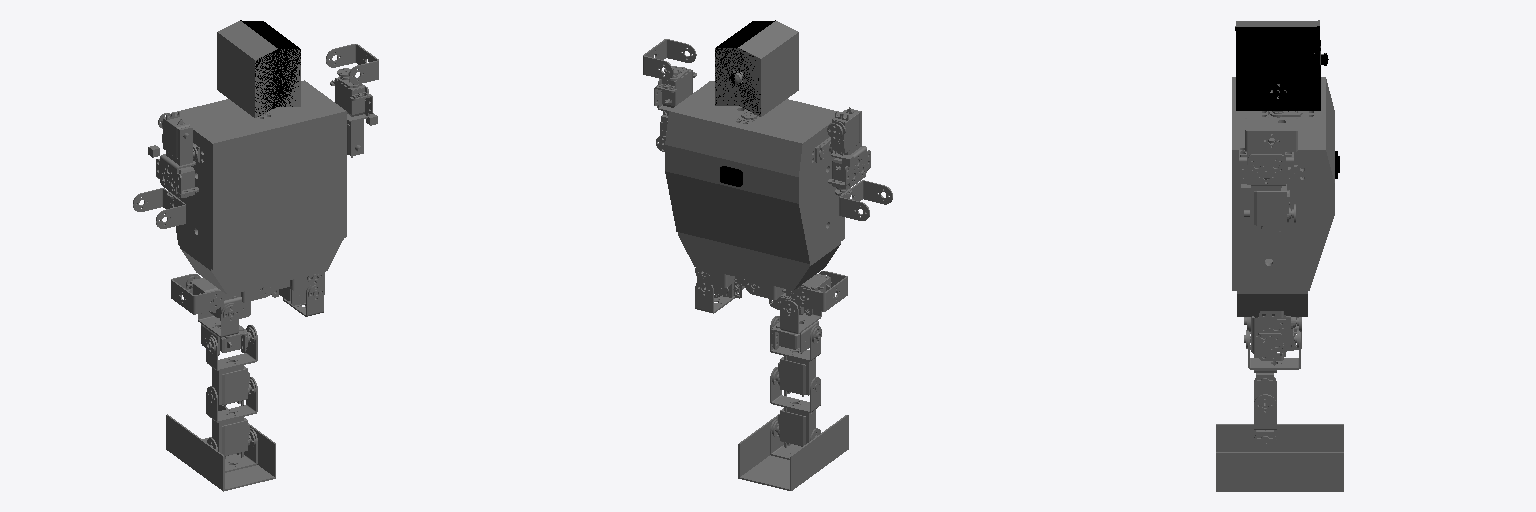
--- Render facts (derived) ---
3 views of the same robot in one strip: view 1: azimuth 30°, elevation 25°; view 2: azimuth 150°, elevation 25°; view 3: azimuth 270°, elevation 25° (orthographic).
Robot: rmis — 47 links, 46 joints (24 revolute, 22 fixed); root link world; default pose: all joints at 0.
Links seen in each view (by area): view 1: base_link, head_outer_link, lower_body_link, l_feet_link, l_upper_shoulder_link, camera_link, r_upper_shoulder_link, l_lower_leg_inner_link, r_lower_shoulder_link, l_upper_ankle_link, l_lower_shoulder_link, r_lower_ankle_link (+6 smaller); view 2: base_link, head_outer_link, l_feet_link, lower_body_link, l_upper_shoulder_link, r_upper_shoulder_link, l_lower_leg_inner_link, r_lower_shoulder_link, l_lower_shoulder_link, l_upper_ankle_link, camera_link, r_lower_ankle_link (+5 smaller); view 3: base_link, l_feet_link, camera_link, r_upper_shoulder_link, r_upper_leg_inner_link, lower_body_link, r_lower_shoulder_link, l_lower_leg_outer_link, r_lower_hip_link, head_outer_link.
Link boxes in pixels (x1,y1,x2,y2): base_link: (174,80,346,269); head_outer_link: (217,21,300,117); lower_body_link: (180,238,343,298); l_feet_link: (166,405,275,491); l_upper_shoulder_link: (156,111,198,198); camera_link: (240,20,300,116); r_upper_shoulder_link: (330,68,372,157); l_lower_leg_inner_link: (209,362,255,406); r_lower_shoulder_link: (326,44,378,84); l_upper_ankle_link: (210,413,255,458); l_lower_shoulder_link: (133,188,185,228); r_lower_ankle_link: (171,274,224,314); base_link: (665,81,844,263); head_outer_link: (715,21,798,116); l_feet_link: (738,414,848,490); lower_body_link: (678,232,840,290); l_upper_shoulder_link: (827,107,870,195); r_upper_shoulder_link: (654,66,696,151); l_lower_leg_inner_link: (772,352,818,396); r_lower_shoulder_link: (643,39,696,79); l_lower_shoulder_link: (839,180,892,220); l_upper_ankle_link: (772,404,816,447); camera_link: (715,20,775,114); r_lower_ankle_link: (794,271,847,311); base_link: (1232,77,1334,290); l_feet_link: (1216,424,1343,491); camera_link: (1235,26,1328,110); r_upper_shoulder_link: (1239,134,1295,231); r_upper_leg_inner_link: (1252,311,1300,360); lower_body_link: (1237,291,1307,317); r_lower_shoulder_link: (1245,118,1297,151); l_lower_leg_outer_link: (1254,377,1276,429); r_lower_hip_link: (1244,330,1300,369); head_outer_link: (1235,20,1325,98).
Size in the robot's own frame: 3.07 by 1.35 by 5.47 metres.
28 mesh visuals loaded from 37 distinct referenced files (27 binary STL); not drawn: 10 (reference not matched to a file when rendering).

The robot description file, URDF, robot "rmis":
<?xml version="1.0"?>
<robot name="rmis" version="1.0">

  <!-- Dummy Link for KDL Parser -->
  <link name="world"/>

  <!-- Fixed Joint to Connect World to Base Link -->
  <joint name="world_to_base_joint" type="fixed">
    <parent link="world"/>
    <child link="base_link"/>
    <origin xyz="0.0 0.0 0.0" rpy="0.0 0.0 0.0"/>
  </joint>

  <!-- Base Link -->
  <link name="base_link">
    <inertial>
      <origin xyz="-0.00284 -0.01176 0.03521" rpy="0.0 0.0 0.0"/>
      <mass value="0.05000"/>
      <inertia ixx="3.80664" ixy="0.00010" ixz="-0.11562" iyy="2.86595" iyz="0.00147" izz="1.72824"/>
    </inertial>
    <visual name="base">
      <origin xyz="-0.15389 0.0 -0.00001" rpy="0.0 0.0 0.0"/>
      <geometry>
        <mesh filename="package://rmis/meshes/stl/base.stl" scale="0.1 0.1 0.1"/>
      </geometry>
      <material name="grey">
        <color rgba="0.5 0.5 0.5 1.0"/>
      </material>
    </visual>
    <collision name="base_collision">
      <origin xyz="-0.15389 0.0 -0.00001" rpy="0.0 0.0 0.0"/>
      <geometry>
        <mesh filename="package://rmis/meshes/stl/base.stl" scale="0.1 0.1 0.1"/>
      </geometry>
    </collision>
  </link>
  <gazebo reference="base_link">
    <material>Gazebo/Grey</material>
  </gazebo>

  <!-- Sensors Section -->
  <!-- Lidar -->
  <joint name="lidar_link_joint" type="fixed">
    <origin xyz="0.15210 0.54325 0.16884" rpy="0.0 0.0 0.0"/>
    <parent link="base_link"/>
    <child link="lidar_link"/>
  </joint>
  <link name="lidar_link">
    <inertial>
      <origin xyz="-1.54987 0.01466 -0.04121" rpy="0.0 0.0 0.0"/>
      <mass value="0.05000"/>
      <inertia ixx="0.05768" ixy="0.00012" ixz="-0.00062" iyy="0.02857" iyz="0.00006" izz="0.05022"/>
    </inertial>
    <visual name="lidar">
      <origin xyz="-0.15388 0.0 -0.00000" rpy="0.0 0.0 0.0"/>
      <geometry>
        <mesh filename="package://rmis/meshes/stl/TF_Luna.stl" scale="0.1 0.1 0.1"/>
      </geometry>
      <material name="black">
        <color rgba="0.0 0.0 0.0 1.0"/>
      </material>
    </visual>
    <collision name="lidar_collision">
      <origin xyz="-0.15388 0.0 -0.00001" rpy="0.0 0.0 0.0"/>
      <geometry>
        <mesh filename="package://rmis/meshes/stl/TF_Luna.stl" scale="0.1 0.1 0.1"/>
      </geometry>
    </collision>
  </link>
  <gazebo reference="lidar_link">
    <material>Gazebo/Black</material>
    <sensor name="tf_luna" type="ray">
      <pose>0.0 0.0 0.0 0.0 0.0 0.0</pose>
      <visualize>true</visualize>
      <update_rate>10</update_rate>
      <ray>
        <scan>
          <horizontal>
            <samples>100</samples>
            <resolution>0.01047</resolution>
            <min_angle>-0.52360</min_angle>
            <max_angle>0.52360</max_angle>
          </horizontal>
        </scan>
        <range>
          <min>0.2</min>
          <max>8.0</max>
          <resolution>0.01</resolution>
        </range>
      </ray>
      <plugin name="lidar_plugin" filename="libgazebo_ros_ray_sensor.so">
        <ros>
          <namespace>/rmis</namespace>
          <remapping>~/out:=lidar_scan</remapping>
        </ros>
        <frame_name>lidar_link</frame_name>
      </plugin>
    </sensor>
  </gazebo>

  <!-- IMU -->
  <joint name="imu_link_joint" type="fixed">
    <origin xyz="0.21039 -0.34355 -1.01118" rpy="0.0 0.0 1.57080"/>
    <parent link="base_link"/>
    <child link="imu_link"/>
  </joint>
  <link name="imu_link">
    <inertial>
      <origin xyz="0.0 2.30103 0.0" rpy="0.0 0.0 0.0"/>
      <mass value="0.05000"/>
      <inertia ixx="0.03333" ixy="0.0" ixz="0.0" iyy="0.01817" iyz="0.0" izz="0.01817"/>
    </inertial>
    <visual name="imu">
      <origin xyz="0.0 0.23010 0.0" rpy="0.0 0.0 0.0"/>
      <geometry>
        <box size="0.06 0.2 0.2"/>
      </geometry>
      <material name="blue">
        <color rgba="0.0 0.0 1.0 1.0"/>
      </material>
    </visual>
    <collision name="imu_collision">
      <origin xyz="0.0 0.23010 0.0" rpy="0.0 0.0 0.0"/>
      <geometry>
        <box size="0.06 0.2 0.2"/>
      </geometry>
    </collision>
  </link>
  <gazebo reference="imu_link">
    <material>Gazebo/Blue</material>
  </gazebo>

  <!-- Upper Body Section -->
  <joint name="u_upper_body_link_joint" type="revolute">
    <origin xyz="-0.00039 -0.01857 0.85581" rpy="0.0 0.0 0.0"/>
    <parent link="base_link"/>
    <child link="u_upper_body_link"/>
    <axis xyz="0.0 0.0 1.0"/>
    <dynamics damping="0.50000" friction="0.1"/>
    <limit lower="-3.14" upper="3.14" effort="1.2" velocity="1.0"/>
  </joint>
  <link name="u_upper_body_link">
    <inertial>
      <origin xyz="0.0 0.0 0.0" rpy="0.0 0.0 0.0"/>
      <mass value="0.01"/>
      <inertia ixx="0.001" ixy="0.0" ixz="0.0" iyy="0.001" iyz="0.0" izz="0.001"/>
    </inertial>
    <visual name="u_upper_body">
      <origin xyz="0.0 0.0 0.0" rpy="0.0 0.0 0.0"/>
      <geometry>
        <box size="0.1 0.1 0.1"/>
      </geometry>
      <material name="grey"/>
    </visual>
    <collision name="u_upper_body_collision">
      <origin xyz="0.0 0.0 0.0" rpy="0.0 0.0 0.0"/>
      <geometry>
        <box size="0.1 0.1 0.1"/>
      </geometry>
    </collision>
  </link>
  <gazebo reference="u_upper_body_link">
    <material>Gazebo/Grey</material>
  </gazebo>

  <!-- Head and Neck Section -->
  <joint name="neck_link_joint" type="fixed">
    <origin xyz="0.29394 -0.10231 0.17455" rpy="0.0 0.0 0.0"/>
    <parent link="u_upper_body_link"/>
    <child link="neck_link"/>
  </joint>
  <link name="neck_link">
    <inertial>
      <origin xyz="-2.94095 0.0 -0.40906" rpy="0.0 0.0 0.0"/>
      <mass value="0.05000"/>
      <inertia ixx="0.10411" ixy="0.0" ixz="0.02435" iyy="0.11152" iyz="0.0" izz="0.04042"/>
    </inertial>
    <visual name="neck">
      <origin xyz="-0.29410 0.0 -0.04091" rpy="0.0 0.0 0.0"/>
      <geometry>
        <mesh filename="package://rmis/meshes/stl/neck_joint.stl" scale="0.1 0.1 0.1"/>
      </geometry>
      <material name="grey"/>
    </visual>
    <collision name="neck_collision">
      <origin xyz="-0.29410 0.0 -0.04091" rpy="0.0 0.0 0.0"/>
      <geometry>
        <mesh filename="package://rmis/meshes/stl/neck_joint.stl" scale="0.1 0.1 0.1"/>
      </geometry>
    </collision>
  </link>
  <gazebo reference="neck_link">
    <material>Gazebo/Grey</material>
  </gazebo>

  <joint name="head_inner_link_joint" type="revolute">
    <origin xyz="-0.53928 0.10308 0.14213" rpy="-1.57080 -1.57080 1.57080"/>
    <parent link="neck_link"/>
    <child link="head_inner_link"/>
    <axis xyz="0.0 0.0 1.0"/>
    <dynamics damping="0.50000" friction="0.1"/>
    <limit lower="-0.4" upper="0.4" effort="1.2" velocity="1.0"/>
  </joint>
  <link name="head_inner_link">
    <inertial>
      <origin xyz="0.86758 -0.32559 -2.66080" rpy="0.0 0.0 0.0"/>
      <mass value="0.05000"/>
      <inertia ixx="0.18266" ixy="0.01279" ixz="0.00147" iyy="0.09287" iyz="0.00504" izz="0.14329"/>
    </inertial>
    <visual name="head_inner">
      <origin xyz="0.10230 0.02942 -0.18450" rpy="1.57080 1.57080 1.57080"/>
      <geometry>
        <mesh filename="package://rmis/meshes/stl/head_link.stl" scale="0.1 0.1 0.1"/>
      </geometry>
      <material name="grey"/>
    </visual>
    <collision name="head_inner_collision">
      <origin xyz="0.10230 0.02942 -0.18450" rpy="1.57080 1.57080 1.57080"/>
      <geometry>
        <mesh filename="package://rmis/meshes/stl/head_link.stl" scale="0.1 0.1 0.1"/>
      </geometry>
    </collision>
  </link>
  <gazebo reference="head_inner_link">
    <material>Gazebo/Grey</material>
  </gazebo>

  <joint name="head_outer_link_joint" type="fixed">
    <origin xyz="0.24166 -0.01105 -0.24237" rpy="1.57080 1.57080 1.57080"/>
    <parent link="head_inner_link"/>
    <child link="head_outer_link"/>
  </joint>
  <link name="head_outer_link">
    <inertial>
      <origin xyz="0.0 0.0 0.0" rpy="0.0 0.0 0.0"/>
      <mass value="0.01"/>
      <inertia ixx="0.001" ixy="0.0" ixz="0.0" iyy="0.001" iyz="0.0" izz="0.001"/>
    </inertial>
    <visual name="head_outer">
      <origin xyz="0.0 0.0 0.0" rpy="0.0 0.0 0.0"/>
      <geometry>
        <mesh filename="package://rmis/meshes/stl/head_joint.stl" scale="0.1 0.1 0.1"/>
      </geometry>
      <material name="grey"/>
    </visual>
    <collision name="head_outer_collision">
      <origin xyz="0.0 0.0 0.0" rpy="0.0 0.0 0.0"/>
      <geometry>
        <mesh filename="package://rmis/meshes/stl/head_joint.stl" scale="0.1 0.1 0.1"/>
      </geometry>
    </collision>
  </link>
  <gazebo reference="head_outer_link">
    <material>Gazebo/Grey</material>
  </gazebo>

  <joint name="camera_link_joint" type="fixed">
    <origin xyz="-0.00027 0.51877 -0.01898" rpy="0.0 0.0 1.57080"/>
    <parent link="head_outer_link"/>
    <child link="camera_link"/>
  </joint>
  <link name="camera_link">
    <inertial>
      <origin xyz="-5.04919 -0.00283 0.18436" rpy="0.0 0.0 0.0"/>
      <mass value="0.05000"/>
      <inertia ixx="0.35611" ixy="0.08645" ixz="0.03018" iyy="1.36268" iyz="-0.00299" izz="1.33173"/>
    </inertial>
    <visual name="camera">
      <origin xyz="-0.51877 -0.00027 0.01898" rpy="0.0 0.0 -1.57080"/>
      <geometry>
        <mesh filename="package://rmis/meshes/stl/head_joint.stl" scale="0.1 0.1 0.1"/>
      </geometry>
      <material name="black"/>
    </visual>
    <collision name="camera_collision">
      <origin xyz="-0.51877 -0.00027 0.01898" rpy="0.0 0.0 -1.57080"/>
      <geometry>
        <mesh filename="package://rmis/meshes/stl/head_joint.stl" scale="0.1 0.1 0.1"/>
      </geometry>
    </collision>
  </link>
  <gazebo reference="camera_link">
    <material>Gazebo/Black</material>
    <sensor name="rasp_cam" type="camera">
      <pose>0.02942 0.0 0.0 -0.0 1.57080 0.0</pose>
      <camera>
        <horizontal_fov>1.57080</horizontal_fov>
        <image>
          <width>3280</width>
          <height>2464</height>
          <format>R8G8B8</format>
        </image>
        <clip>
          <near>0.01</near>
          <far>100.0</far>
        </clip>
      </camera>
      <update_rate>30</update_rate>
      <visualize>true</visualize>
      <plugin name="camera_plugin" filename="libgazebo_ros_camera.so">
        <ros>
          <namespace>/rmis</namespace>
          <remapping>~/out:=camera/image_raw</remapping>
        </ros>
        <frame_name>camera_link</frame_name>
      </plugin>
    </sensor>
  </gazebo>

  <!-- Lower Body Section -->
  <joint name="lower_body_link_joint" type="fixed">
    <origin xyz="-0.04942 -0.07242 -1.16532" rpy="0.0 0.0 0.0"/>
    <parent link="base_link"/>
    <child link="lower_body_link"/>
  </joint>
  <link name="lower_body_link">
    <inertial>
      <origin xyz="0.45951 -0.12902 0.92811" rpy="0.0 0.0 0.0"/>
      <mass value="0.05000"/>
      <inertia ixx="1.03498" ixy="-0.00427" ixz="-0.00418" iyy="0.30934" iyz="-0.00367" izz="1.06913"/>
    </inertial>
    <visual name="lower_body">
      <origin xyz="-0.07498 0.0 0.12347" rpy="0.0 0.0 0.0"/>
      <geometry>
        <mesh filename="package://rmis/meshes/stl/lower_body_link.stl" scale="0.1 0.1 0.1"/>
      </geometry>
      <material name="grey"/>
    </visual>
    <collision name="lower_body_collision">
      <origin xyz="-0.07498 0.0 0.12347" rpy="0.0 0.0 0.0"/>
      <geometry>
        <mesh filename="package://rmis/meshes/stl/lower_body_link.stl" scale="0.1 0.1 0.1"/>
      </geometry>
    </collision>
  </link>
  <gazebo reference="lower_body_link">
    <material>Gazebo/Grey</material>
  </gazebo>

  <!-- Left Upper Body -->
  <joint name="l_upper_body_link_joint" type="revolute">
    <origin xyz="-1.02542 -0.10845 0.50152" rpy="0.0 -1.57080 0.0"/>
    <parent link="base_link"/>
    <child link="l_upper_body_link"/>
    <axis xyz="0.0 0.0 1.0"/>
    <dynamics damping="0.50000" friction="0.1"/>
    <limit lower="-2.0" upper="2.0" effort="1.2" velocity="1.0"/>
  </joint>
  <link name="l_upper_body_link">
    <inertial>
      <origin xyz="0.0 0.0 0.0" rpy="0.0 0.0 0.0"/>
      <mass value="0.01"/>
      <inertia ixx="0.001" ixy="0.0" ixz="0.0" iyy="0.001" iyz="0.0" izz="0.001"/>
    </inertial>
    <visual name="l_upper_body">
      <origin xyz="0.0 0.0 0.0" rpy="0.0 0.0 0.0"/>
      <geometry>
        <box size="0.1 0.1 0.1"/>
      </geometry>
      <material name="grey"/>
    </visual>
    <collision name="l_upper_body_collision">
      <origin xyz="0.0 0.0 0.0" rpy="0.0 0.0 0.0"/>
      <geometry>
        <box size="0.1 0.1 0.1"/>
      </geometry>
    </collision>
  </link>
  <gazebo reference="l_upper_body_link">
    <material>Gazebo/Grey</material>
  </gazebo>

  <!-- Right Upper Body -->
  <joint name="r_upper_body_link_joint" type="revolute">
    <origin xyz="1.02542 -0.10845 0.50152" rpy="0.0 1.57080 0.0"/>
    <parent link="base_link"/>
    <child link="r_upper_body_link"/>
    <axis xyz="0.0 0.0 1.0"/>
    <dynamics damping="0.50000" friction="0.1"/>
    <limit lower="-2.0" upper="2.0" effort="1.2" velocity="1.0"/>
  </joint>
  <link name="r_upper_body_link">
    <inertial>
      <origin xyz="0.0 0.0 0.0" rpy="0.0 0.0 0.0"/>
      <mass value="0.01"/>
      <inertia ixx="0.001" ixy="0.0" ixz="0.0" iyy="0.001" iyz="0.0" izz="0.001"/>
    </inertial>
    <visual name="r_upper_body">
      <origin xyz="0.0 0.0 0.0" rpy="0.0 0.0 0.0"/>
      <geometry>
        <box size="0.1 0.1 0.1"/>
      </geometry>
      <material name="grey"/>
    </visual>
    <collision name="r_upper_body_collision">
      <origin xyz="0.0 0.0 0.0" rpy="0.0 0.0 0.0"/>
      <geometry>
        <box size="0.1 0.1 0.1"/>
      </geometry>
    </collision>
  </link>
  <gazebo reference="r_upper_body_link">
    <material>Gazebo/Grey</material>
  </gazebo>

  <!-- Left Lower Body -->
  <joint name="l_lower_body_link_joint" type="revolute">
    <origin xyz="-0.43474 -0.11124 -0.22114" rpy="3.14159 0.0 3.14159"/>
    <parent link="lower_body_link"/>
    <child link="l_lower_body_link"/>
    <axis xyz="0.0 0.0 1.0"/>
    <dynamics damping="0.50000" friction="0.1"/>
    <limit lower="-0.3" upper="0.3" effort="1.2" velocity="1.0"/>
  </joint>
  <link name="l_lower_body_link">
    <inertial>
      <origin xyz="0.0 0.0 0.0" rpy="0.0 0.0 0.0"/>
      <mass value="0.01"/>
      <inertia ixx="0.001" ixy="0.0" ixz="0.0" iyy="0.001" iyz="0.0" izz="0.001"/>
    </inertial>
    <visual name="l_lower_body">
      <origin xyz="0.0 0.0 0.0" rpy="0.0 0.0 0.0"/>
      <geometry>
        <box size="0.1 0.1 0.1"/>
      </geometry>
      <material name="grey"/>
    </visual>
    <collision name="l_lower_body_collision">
      <origin xyz="0.0 0.0 0.0" rpy="0.0 0.0 0.0"/>
      <geometry>
        <box size="0.1 0.1 0.1"/>
      </geometry>
    </collision>
  </link>
  <gazebo reference="l_lower_body_link">
    <material>Gazebo/Grey</material>
  </gazebo>

  <!-- Right Lower Body -->
  <joint name="r_lower_body_link_joint" type="revolute">
    <origin xyz="0.53339 -0.11124 -0.22114" rpy="3.14159 0.0 3.14159"/>
    <parent link="lower_body_link"/>
    <child link="r_lower_body_link"/>
    <axis xyz="0.0 0.0 1.0"/>
    <dynamics damping="0.50000" friction="0.1"/>
    <limit lower="-0.3" upper="0.3" effort="1.2" velocity="1.0"/>
  </joint>
  <link name="r_lower_body_link">
    <inertial>
      <origin xyz="0.0 0.0 0.0" rpy="0.0 0.0 0.0"/>
      <mass value="0.01"/>
      <inertia ixx="0.001" ixy="0.0" ixz="0.0" iyy="0.001" iyz="0.0" izz="0.001"/>
    </inertial>
    <visual name="r_lower_body">
      <origin xyz="0.0 0.0 0.0" rpy="0.0 0.0 0.0"/>
      <geometry>
        <box size="0.1 0.1 0.1"/>
      </geometry>
      <material name="grey"/>
    </visual>
    <collision name="r_lower_body_collision">
      <origin xyz="0.0 0.0 0.0" rpy="0.0 0.0 0.0"/>
      <geometry>
        <box size="0.1 0.1 0.1"/>
      </geometry>
    </collision>
  </link>
  <gazebo reference="r_lower_body_link">
    <material>Gazebo/Grey</material>
  </gazebo>

  <!-- Left Hip Section -->
  <joint name="l_upper_hip_link_joint" type="fixed">
    <origin xyz="-0.08125 0.19501 0.16258" rpy="-3.14159 0.0 3.14159"/>
    <parent link="l_lower_body_link"/>
    <child link="l_upper_hip_link"/>
  </joint>
  <link name="l_upper_hip_link">
    <inertial>
      <origin xyz="-0.89692 -0.81581 0.04150" rpy="0.0 0.0 0.0"/>
      <mass value="0.05000"/>
      <inertia ixx="0.09287" ixy="-0.00504" ixz="-0.01279" iyy="0.14329" iyz="0.00147" izz="0.18266"/>
    </inertial>
    <visual name="l_upper_hip">
      <origin xyz="-0.07415 0.0 -0.05783" rpy="0.0 0.0 0.0"/>
      <geometry>
        <mesh filename="package://rmis/meshes/stl/l_hip_link.stl" scale="0.1 0.1 0.1"/>
      </geometry>
      <material name="grey"/>
    </visual>
    <collision name="l_upper_hip_collision">
      <origin xyz="-0.07415 0.0 -0.05783" rpy="0.0 0.0 0.0"/>
      <geometry>
        <mesh filename="package://rmis/meshes/stl/l_hip_link.stl" scale="0.1 0.1 0.1"/>
      </geometry>
    </collision>
  </link>
  <gazebo reference="l_upper_hip_link">
    <material>Gazebo/Grey</material>
  </gazebo>

  <joint name="l_lower_hip_link_joint" type="revolute">
    <origin xyz="-0.17610 0.18793 -0.02809" rpy="-1.57080 0.0 0.0"/>
    <parent link="l_upper_hip_link"/>
    <child link="l_lower_hip_link"/>
    <axis xyz="0.0 0.0 1.0"/>
    <dynamics damping="0.50000" friction="0.1"/>
    <limit lower="0.0" upper="0.65" effort="1.2" velocity="1.0"/>
  </joint>
  <link name="l_lower_hip_link">
    <inertial>
      <origin xyz="0.01024 2.04998 -2.16272" rpy="0.0 0.0 0.0"/>
      <mass value="0.05000"/>
      <inertia ixx="0.09091" ixy="0.00004" ixz="0.03172" iyy="0.28233" iyz="-0.00003" izz="0.22135"/>
    </inertial>
    <visual name="l_lower_hip">
      <origin xyz="0.00102 0.20500 -0.21627" rpy="1.57080 0.0 0.0"/>
      <geometry>
        <mesh filename="package://rmis/meshes/stl/l_hip_joint.stl" scale="0.1 0.1 0.1"/>
      </geometry>
      <material name="grey"/>
    </visual>
    <collision name="l_lower_hip_collision">
      <origin xyz="0.00102 0.20500 -0.21627" rpy="1.57080 0.0 0.0"/>
      <geometry>
        <mesh filename="package://rmis/meshes/stl/l_hip_joint.stl" scale="0.1 0.1 0.1"/>
      </geometry>
    </collision>
  </link>
  <gazebo reference="l_lower_hip_link">
    <material>Gazebo/Grey</material>
  </gazebo>

  <!-- Right Hip Section -->
  <joint name="r_upper_hip_link_joint" type="fixed">
    <origin xyz="0.00270 0.13586 0.14958" rpy="3.14159 0.0 3.14159"/>
    <parent link="r_lower_body_link"/>
    <child link="r_upper_hip_link"/>
  </joint>
  <link name="r_upper_hip_link">
    <inertial>
      <origin xyz="0.0 0.0 -0.02804" rpy="0.0 0.0 0.0"/>
      <mass value="0.01"/>
      <inertia ixx="0.001" ixy="0.0" ixz="0.0" iyy="0.001" iyz="0.0" izz="0.001"/>
    </inertial>
    <visual name="r_upper_hip">
      <origin xyz="0.0 0.0 -0.02805" rpy="0.0 0.0 0.0"/>
      <geometry>
        <mesh filename="package://rmis/meshes/stl/r_hip_link.stl" scale="0.1 0.1 0.1"/>
      </geometry>
      <material name="grey"/>
    </visual>
    <collision name="r_upper_hip_collision">
      <origin xyz="0.0 0.0 -0.02804" rpy="0.0 0.0 0.0"/>
      <geometry>
        <mesh filename="package://rmis/meshes/stl/r_hip_link.stl" scale="0.1 0.1 0.1"/>
      </geometry>
    </collision>
  </link>
  <gazebo reference="r_upper_hip_link">
    <material>Gazebo/Grey</material>
  </gazebo>

  <joint name="r_lower_hip_link_joint" type="revolute">
    <origin xyz="0.09774 0.24708 -0.04110" rpy="-1.57080 0.0 0.0"/>
    <parent link="r_upper_hip_link"/>
    <child link="r_lower_hip_link"/>
    <axis xyz="0.0 0.0 1.0"/>
    <dynamics damping="0.50000" friction="0.1"/>
    <limit lower="0.0" upper="0.65" effort="1.2" velocity="1.0"/>
  </joint>
  <link name="r_lower_hip_link">
    <inertial>
      <origin xyz="-0.00490 1.62450 -2.85692" rpy="0.0 0.0 0.0"/>
      <mass value="0.05000"/>
      <inertia ixx="0.09070" ixy="-0.00001" ixz="0.03156" iyy="0.28217" iyz="0.0" izz="0.22140"/>
    </inertial>
    <visual name="r_lower_hip">
      <origin xyz="-0.00049 0.16245 -0.28569" rpy="1.57080 0.0 0.0"/>
      <geometry>
        <mesh filename="package://rmis/meshes/stl/r_hip_joint.stl" scale="0.1 0.1 0.1"/>
      </geometry>
      <material name="grey"/>
    </visual>
    <collision name="r_lower_hip_collision">
      <origin xyz="-0.00049 0.16245 -0.28569" rpy="1.57080 0.0 0.0"/>
      <geometry>
        <mesh filename="package://rmis/meshes/stl/r_hip_joint.stl" scale="0.1 0.1 0.1"/>
      </geometry>
    </collision>
  </link>
  <gazebo reference="r_lower_hip_link">
    <material>Gazebo/Grey</material>
  </gazebo>

  <!-- Left Leg Section -->
  <joint name="l_upper_leg_inner_link_joint" type="fixed">
    <origin xyz="0.23325 0.42698 -0.25846" rpy="1.57080 0.0 0.0"/>
    <parent link="l_lower_hip_link"/>
    <child link="l_upper_leg_inner_link"/>
  </joint>
  <link name="l_upper_leg_inner_link">
    <inertial>
      <origin xyz="-1.15800 -0.07651 0.08443" rpy="0.0 0.0 0.0"/>
      <mass value="0.05000"/>
      <inertia ixx="0.14374" ixy="-0.00539" ixz="-0.00179" iyy="0.09294" iyz="0.01231" izz="0.18306"/>
    </inertial>
    <visual name="l_upper_leg_inner">
      <origin xyz="-0.09287 0.0 -0.01054" rpy="0.0 0.0 0.0"/>
      <geometry>
        <mesh filename="package://rmis/meshes/stl/l_upper_leg_link.stl" scale="0.1 0.1 0.1"/>
      </geometry>
      <material name="grey"/>
    </visual>
    <collision name="l_upper_leg_inner_collision">
      <origin xyz="-0.09287 0.0 -0.01054" rpy="0.0 0.0 0.0"/>
      <geometry>
        <mesh filename="package://rmis/meshes/stl/l_upper_leg_link.stl" scale="0.1 0.1 0.1"/>
      </geometry>
    </collision>
  </link>
  <gazebo reference="l_upper_leg_inner_link">
    <material>Gazebo/Grey</material>
  </gazebo>

  <joint name="l_upper_leg_outer_link_joint" type="revolute">
    <origin xyz="0.14920 -0.09581 -0.02392" rpy="0.0 1.57080 0.0"/>
    <parent link="l_upper_leg_inner_link"/>
    <child link="l_upper_leg_outer_link"/>
    <axis xyz="0.0 0.0 1.0"/>
    <dynamics damping="0.50000" friction="0.1"/>
    <limit lower="-1.57" upper="1.57" effort="1.2" velocity="1.0"/>
  </joint>
  <link name="l_upper_leg_outer_link">
    <inertial>
      <origin xyz="1.61449 0.01137 -2.80674" rpy="0.0 0.0 0.0"/>
      <mass value="0.05000"/>
      <inertia ixx="0.28216" ixy="0.00029" ixz="0.00019" iyy="0.09091" iyz="-0.03166" izz="0.22118"/>
    </inertial>
    <visual name="l_upper_leg_outer">
      <origin xyz="0.20410 0.00161 -0.21135" rpy="-1.81578 -1.57080 1.81578"/>
      <geometry>
        <mesh filename="package://rmis/meshes/stl/l_upper_leg_joint.stl" scale="0.1 0.1 0.1"/>
      </geometry>
      <material name="grey"/>
    </visual>
    <collision name="l_upper_leg_outer_collision">
      <origin xyz="0.20410 0.00161 -0.21135" rpy="-1.81578 -1.57080 1.81578"/>
      <geometry>
        <mesh filename="package://rmis/meshes/stl/l_upper_leg_joint.stl" scale="0.1 0.1 0.1"/>
      </geometry>
    </collision>
  </link>
  <gazebo reference="l_upper_leg_outer_link">
    <material>Gazebo/Grey</material>
  </gazebo>

  <joint name="l_lower_leg_inner_link_joint" type="fixed">
    <origin xyz="0.48106 -0.00032 -0.25524" rpy="-1.57080 -1.57080 1.57080"/>
    <parent link="l_upper_leg_outer_link"/>
    <child link="l_lower_leg_inner_link"/>
  </joint>
  <link name="l_lower_leg_inner_link">
    <inertial>
      <origin xyz="-0.06622 -0.00438 -0.63853" rpy="0.0 0.0 0.0"/>
      <mass value="0.05000"/>
      <inertia ixx="0.36405" ixy="-0.00120" ixz="-0.00013" iyy="0.09410" iyz="-0.04544" izz="0.29049"/>
    </inertial>
    <visual name="l_lower_leg_inner">
      <origin xyz="0.0 0.0 -0.05855" rpy="0.0 0.0 0.0"/>
      <geometry>
        <mesh filename="package://rmis/meshes/stl/l_lower_leg_link.stl" scale="0.1 0.1 0.1"/>
      </geometry>
      <material name="grey"/>
    </visual>
    <collision name="l_lower_leg_inner_collision">
      <origin xyz="0.0 0.0 -0.05855" rpy="0.0 0.0 0.0"/>
      <geometry>
        <mesh filename="package://rmis/meshes/stl/l_lower_leg_link.stl" scale="0.1 0.1 0.1"/>
      </geometry>
    </collision>
  </link>
  <gazebo reference="l_lower_leg_inner_link">
    <material>Gazebo/Grey</material>
  </gazebo>

  <joint name="l_lower_leg_outer_link_joint" type="revolute">
    <origin xyz="0.25524 0.00032 -0.18870" rpy="1.57080 1.57080 1.57080"/>
    <parent link="l_lower_leg_inner_link"/>
    <child link="l_lower_leg_outer_link"/>
    <axis xyz="0.0 0.0 1.0"/>
    <dynamics damping="0.50000" friction="0.1"/>
    <limit lower="-1.57" upper="1.57" effort="1.2" velocity="1.0"/>
  </joint>
  <link name="l_lower_leg_outer_link">
    <inertial>
      <origin xyz="1.80531 0.01345 -2.50267" rpy="0.0 0.0 0.0"/>
      <mass value="0.05000"/>
      <inertia ixx="0.23547" ixy="0.0" ixz="0.0" iyy="0.07973" iyz="0.00003" izz="0.18690"/>
    </inertial>
    <visual name="l_lower_leg_outer">
      <origin xyz="0.18053 0.00135 -0.25027" rpy="-1.57080 -1.57080 1.57080"/>
      <geometry>
        <mesh filename="package://rmis/meshes/stl/l_lower_leg_joint.stl" scale="0.1 0.1 0.1"/>
      </geometry>
      <material name="grey"/>
    </visual>
    <collision name="l_lower_leg_outer_collision">
      <origin xyz="0.18053 0.00135 -0.25027" rpy="-1.57080 -1.57080 1.57080"/>
      <geometry>
        <mesh filename="package://rmis/meshes/stl/l_lower_leg_joint.stl" scale="0.1 0.1 0.1"/>
      </geometry>
    </collision>
  </link>
  <gazebo reference="l_lower_leg_outer_link">
    <material>Gazebo/Grey</material>
  </gazebo>

  <joint name="l_upper_ankle_link_joint" type="fixed">
    <origin xyz="0.49218 -0.00032 -0.25524" rpy="1.57079 -1.57080 -1.57080"/>
    <parent link="l_lower_leg_outer_link"/>
    <child link="l_upper_ankle_link"/>
  </joint>
  <link name="l_upper_ankle_link">
    <inertial>
      <origin xyz="-0.06622 -0.00438 -0.52971" rpy="0.0 0.0 0.0"/>
      <mass value="0.05000"/>
      <inertia ixx="0.36405" ixy="-0.00120" ixz="-0.00013" iyy="0.09410" iyz="-0.04544" izz="0.29049"/>
    </inertial>
    <visual name="l_upper_ankle">
      <origin xyz="0.0 0.0 -0.04767" rpy="0.0 0.0 0.0"/>
      <geometry>
        <mesh filename="package://rmis/meshes/stl/l_ankle_link.stl" scale="0.1 0.1 0.1"/>
      </geometry>
      <material name="grey"/>
    </visual>
    <collision name="l_upper_ankle_collision">
      <origin xyz="0.0 0.0 -0.04767" rpy="0.0 0.0 0.0"/>
      <geometry>
        <mesh filename="package://rmis/meshes/stl/l_ankle_link.stl" scale="0.1 0.1 0.1"/>
      </geometry>
    </collision>
  </link>
  <gazebo reference="l_upper_ankle_link">
    <material>Gazebo/Grey</material>
  </gazebo>

  <joint name="l_lower_ankle_link_joint" type="revolute">
    <origin xyz="0.25524 0.00032 -0.17729" rpy="0.0 1.57080 0.0"/>
    <parent link="l_upper_ankle_link"/>
    <child link="l_lower_ankle_link"/>
    <axis xyz="0.0 0.0 1.0"/>
    <dynamics damping="0.50000" friction="0.1"/>
    <limit lower="-0.3" upper="0.65" effort="1.2" velocity="1.0"/>
  </joint>
  <link name="l_lower_ankle_link">
    <inertial>
      <origin xyz="1.81079 0.01345 -2.50269" rpy="0.0 0.0 0.0"/>
      <mass value="0.05000"/>
      <inertia ixx="0.23547" ixy="0.0" ixz="0.0" iyy="0.07973" iyz="-0.00003" izz="0.18690"/>
    </inertial>
    <visual name="l_lower_ankle">
      <origin xyz="0.18108 0.00135 -0.25027" rpy="-1.32582 -1.57080 1.32582"/>
      <geometry>
        <mesh filename="package://rmis/meshes/stl/l_ankle_joint.stl" scale="0.1 0.1 0.1"/>
      </geometry>
      <material name="grey"/>
    </visual>
    <collision name="l_lower_ankle_collision">
      <origin xyz="0.18108 0.00135 -0.25027" rpy="-1.32582 -1.57080 1.32582"/>
      <geometry>
        <mesh filename="package://rmis/meshes/stl/l_ankle_joint.stl" scale="0.1 0.1 0.1"/>
      </geometry>
    </collision>
  </link>
  <gazebo reference="l_lower_ankle_link">
    <material>Gazebo/Grey</material>
  </gazebo>

  <joint name="l_feet_link_joint" type="fixed">
    <origin xyz="0.29534 0.15614 -0.36302" rpy="-1.57080 -1.57080 1.57080"/>
    <parent link="l_lower_ankle_link"/>
    <child link="l_feet_link"/>
  </joint>
  <link name="l_feet_link">
    <inertial>
      <origin xyz="0.53756 0.0 1.09638" rpy="0.0 0.0 0.0"/>
      <mass value="0.05000"/>
      <inertia ixx="0.37179" ixy="-0.00718" ixz="-0.00237" iyy="0.56463" iyz="0.00152" izz="0.80037"/>
    </inertial>
    <visual name="l_feet">
      <origin xyz="0.05376 0.0 0.11108" rpy="0.0 0.0 0.0"/>
      <geometry>
        <mesh filename="package://rmis/meshes/stl/l_feet_link.stl" scale="0.1 0.1 0.1"/>
      </geometry>
      <material name="grey"/>
    </visual>
    <collision name="l_feet_collision">
      <origin xyz="0.05376 0.0 0.11108" rpy="0.0 0.0 0.0"/>
      <geometry>
        <mesh filename="package://rmis/meshes/stl/l_feet_link.stl" scale="0.1 0.1 0.1"/>
      </geometry>
    </collision>
  </link>
  <gazebo reference="l_feet_link">
    <material>Gazebo/Grey</material>
  </gazebo>

  <!-- Right Leg Section -->
        <joint name="r_upper_leg_inner_link_joint" type="fixed">
      <origin xyz="-0.00314 -0.10590 -0.15035" rpy="1.57079 1.57080 1.57079"/>
      <parent link="r_lower_hip_link"/>
      <child link="r_upper_leg_inner_link"/>
    </joint>
    <link name="r_upper_leg_inner_link">
      <inertial>
        <origin xyz="0.21242 -0.01084 -0.01650" rpy="0.0 0.0 0.0"/>
        <mass value="0.05000"/>
        <inertia ixx="0.07973" ixy="0.00003" ixz="0.0" iyy="0.18690" iyz="0.0" izz="0.23547"/>
      </inertial>
      <visual name="r_upper_leg_inner">
        <origin xyz="0.02124 -0.00108 -0.00165" rpy="0.0 0.0 0.0"/>
        <geometry>
          <mesh filename="package://rmis/meshes/stl/r_upper_leg_link.stl" scale="0.1 0.1 0.1"/>
        </geometry>
        <material name="grey"/>
      </visual>
      <collision name="r_upper_leg_inner_collision">
        <origin xyz="0.02124 -0.00108 -0.00165" rpy="0.0 0.0 0.0"/>
        <geometry>
          <mesh filename="package://rmis/meshes/stl/r_upper_leg_link.stl" scale="0.1 0.1 0.1"/>
        </geometry>
      </collision>
    </link>
    <gazebo reference="r_upper_leg_inner_link">
      <material>Gazebo/Grey</material>
    </gazebo>
    
<joint name="r_upper_leg_outer_link_joint" type="revolute">
    <origin xyz="-0.15574 -0.10590 -0.00315" rpy="-1.57079 -1.57080 1.57079"/>
    <parent link="r_upper_leg_inner_link"/>
    <child link="r_upper_leg_outer_link"/>
    <axis xyz="0.0 0.0 1.0"/>
    <dynamics damping="0.50000" friction="0.1"/>
    <limit lower="-1.57" upper="1.57" effort="1.2" velocity="1.0"/>
  </joint>
  <link name="r_upper_leg_outer_link">
    <inertial>
      <origin xyz="-1.61459 0.05261 -2.83045" rpy="0.0 0.0 0.0"/>
      <mass value="0.05000"/>
      <inertia ixx="0.28227" ixy="0.00029" ixz="-0.00019" iyy="0.09090" iyz="0.03170" izz="0.22130"/>
    </inertial>
    <visual name="r_upper_leg_outer">
      <origin xyz="-0.20411 0.00479 -0.21364" rpy="1.57080 1.57080 1.57080"/>
      <geometry>
        <mesh filename="package://rmis/meshes/stl/r_upper_leg_joint.stl" scale="0.1 0.1 0.1"/>
      </geometry>
      <material name="grey"/>
    </visual>
    <collision name="r_upper_leg_outer_collision">
      <origin xyz="-0.20411 0.00479 -0.21364" rpy="1.57080 1.57080 1.57080"/>
      <geometry>
        <mesh filename="package://rmis/meshes/stl/r_upper_leg_joint.stl" scale="0.1 0.1 0.1"/>
      </geometry>
    </collision>
  </link>
  <gazebo reference="r_upper_leg_outer_link">
    <material>Gazebo/Grey</material>
  </gazebo>

  <joint name="r_lower_leg_inner_link_joint" type="fixed">
    <origin xyz="-0.50982 0.00553 -0.28932" rpy="-1.57079 1.57080 -1.57080"/>
    <parent link="r_upper_leg_outer_link"/>
    <child link="r_lower_leg_inner_link"/>
  </joint>
  <link name="r_lower_leg_inner_link">
    <inertial>
      <origin xyz="-0.25026 -0.01220 -0.35379" rpy="0.0 0.0 0.0"/>
      <mass value="0.05000"/>
      <inertia ixx="0.36405" ixy="-0.00120" ixz="0.00013" iyy="0.09410" iyz="0.04544" izz="0.29049"/>
    </inertial>
    <visual name="r_lower_leg_inner">
      <origin xyz="-0.03165 -0.00166 -0.03008" rpy="0.0 0.0 0.0"/>
      <geometry>
        <mesh filename="package://rmis/meshes/stl/r_lower_leg_link.stl" scale="0.1 0.1 0.1"/>
      </geometry>
      <material name="grey"/>
    </visual>
    <collision name="r_lower_leg_inner_collision">
      <origin xyz="-0.03165 -0.00166 -0.03008" rpy="0.0 0.0 0.0"/>
      <geometry>
        <mesh filename="package://rmis/meshes/stl/r_lower_leg_link.stl" scale="0.1 0.1 0.1"/>
      </geometry>
    </collision>
  </link>
  <gazebo reference="r_lower_leg_inner_link">
    <material>Gazebo/Grey</material>
  </gazebo>

  <joint name="r_lower_leg_outer_link_joint" type="revolute">
    <origin xyz="-0.28933 -0.00553 -0.15922" rpy="0.0 -1.57080 0.0"/>
    <parent link="r_lower_leg_inner_link"/>
    <child link="r_lower_leg_outer_link"/>
    <axis xyz="0.0 0.0 1.0"/>
    <dynamics damping="0.50000" friction="0.1"/>
    <limit lower="-1.57" upper="1.57" effort="1.2" velocity="1.0"/>
  </joint>
  <link name="r_lower_leg_outer_link">
    <inertial>
      <origin xyz="-1.81259 0.05530 -2.52645" rpy="0.0 0.0 0.0"/>
      <mass value="0.05000"/>
      <inertia ixx="0.23547" ixy="0.0" ixz="0.0" iyy="0.07973" iyz="-0.00003" izz="0.18690"/>
    </inertial>
    <visual name="r_lower_leg_outer">
      <origin xyz="-0.18126 0.00553 -0.25265" rpy="1.57080 1.57080 1.57080"/>
      <geometry>
        <mesh filename="package://rmis/meshes/stl/r_lower_leg_joint.stl" scale="0.1 0.1 0.1"/>
      </geometry>
      <material name="grey"/>
    </visual>
    <collision name="r_lower_leg_outer_collision">
      <origin xyz="-0.18126 0.00553 -0.25265" rpy="1.57080 1.57080 1.57080"/>
      <geometry>
        <mesh filename="package://rmis/meshes/stl/r_lower_leg_joint.stl" scale="0.1 0.1 0.1"/>
      </geometry>
    </collision>
  </link>
  <gazebo reference="r_lower_leg_outer_link">
    <material>Gazebo/Grey</material>
  </gazebo>

  <joint name="r_upper_ankle_link_joint" type="fixed">
    <origin xyz="-0.58812 0.00553 -0.28932" rpy="1.57080 1.57080 1.57080"/>
    <parent link="r_lower_leg_outer_link"/>
    <child link="r_upper_ankle_link"/>
  </joint>
  <link name="r_upper_ankle_link">
    <inertial>
      <origin xyz="-0.25087 -0.01220 0.42255" rpy="0.0 0.0 0.0"/>
      <mass value="0.05000"/>
      <inertia ixx="0.36405" ixy="-0.00120" ixz="0.00013" iyy="0.09410" iyz="0.04544" izz="0.29049"/>
    </inertial>
    <visual name="r_upper_ankle">
      <origin xyz="-0.03171 -0.00166 0.04755" rpy="0.0 0.0 0.0"/>
      <geometry>
        <mesh filename="package://rmis/meshes/stl/r_ankle_link.stl" scale="0.1 0.1 0.1"/>
      </geometry>
      <material name="grey"/>
    </visual>
    <collision name="r_upper_ankle_collision">
      <origin xyz="-0.03171 -0.00166 0.04755" rpy="0.0 0.0 0.0"/>
      <geometry>
        <mesh filename="package://rmis/meshes/stl/r_ankle_link.stl" scale="0.1 0.1 0.1"/>
      </geometry>
    </collision>
  </link>
  <gazebo reference="r_upper_ankle_link">
    <material>Gazebo/Grey</material>
  </gazebo>
  
  <joint name="r_lower_ankle_link_joint" type="revolute">
    <origin xyz="-0.28932 -0.00553 -0.08191" rpy="0.0 -1.57080 0.0"/>
    <parent link="r_upper_ankle_link"/>
    <child link="r_lower_ankle_link"/>
    <axis xyz="0.0 0.0 1.0"/>
    <dynamics damping="0.50000" friction="0.1"/>
    <limit lower="-0.65" upper="0.3" effort="1.2" velocity="1.0"/>
  </joint>
  <link name="r_lower_ankle_link">
    <inertial>
      <origin xyz="-1.81224 0.05529 -2.52645" rpy="0.0 0.0 0.0"/>
      <mass value="0.05000"/>
      <inertia ixx="0.23547" ixy="0.0" ixz="0.0" iyy="0.07973" iyz="-0.00003" izz="0.18690"/>
    </inertial>
    <visual name="r_lower_ankle">
      <origin xyz="-0.18123 0.00553 -0.25265" rpy="1.44644 1.57080 1.44644"/>
      <geometry>
        <mesh filename="package://rmis/meshes/stl/r_ankle_joint.stl" scale="0.1 0.1 0.1"/>
      </geometry>
      <material name="grey"/>
    </visual>
    <collision name="r_lower_ankle_collision">
      <origin xyz="-0.18123 0.00553 -0.25265" rpy="1.44644 1.57080 1.44644"/>
      <geometry>
        <mesh filename="package://rmis/meshes/stl/r_lower_ankle_link.stl" scale="0.1 0.1 0.1"/>
      </geometry>
    </collision>
  </link>
  <gazebo reference="r_lower_ankle_link">
    <material>Gazebo/Grey</material>
  </gazebo>
  
    <!-- Left Arm Section -->
    <joint name="l_upper_shoulder_link_joint" type="fixed">
      <origin xyz="0.00314 0.00023 0.15035" rpy="1.64773 1.57080 1.64773"/>
      <parent link="l_upper_body_link"/>
      <child link="l_upper_shoulder_link"/>
    </joint>
    <link name="l_upper_shoulder_link">
      <inertial>
        <origin xyz="0.21242 -0.01084 -0.01650" rpy="0.0 0.0 0.0"/>
        <mass value="0.05000"/>
        <inertia ixx="0.07973" ixy="0.00003" ixz="0.0" iyy="0.18690" iyz="0.0" izz="0.23547"/>
      </inertial>
      <visual name="l_upper_shoulder">
        <origin xyz="0.02124 -0.00108 -0.00165" rpy="0.0 0.0 0.0"/>
        <geometry>
          <mesh filename="package://rmis/meshes/stl/l_shoulder_link.stl" scale="0.1 0.1 0.1"/>
        </geometry>
        <material name="grey"/>
      </visual>
      <collision name="l_upper_shoulder_collision">
        <origin xyz="0.02124 -0.00108 -0.00165" rpy="0.0 0.0 0.0"/>
        <geometry>
          <mesh filename="package://rmis/meshes/stl/l_shoulder_link.stl" scale="0.1 0.1 0.1"/>
        </geometry>
      </collision>
    </link>
    <gazebo reference="l_upper_shoulder_link">
      <material>Gazebo/Grey</material>
    </gazebo>

    <joint name="l_lower_shoulder_upper_link_joint" type="revolute">
      <origin xyz="-0.15786 0.25015 0.0" rpy="-1.57080 0.0 0.0"/>
      <parent link="l_upper_shoulder_link"/>
      <child link="l_lower_shoulder_upper_link"/>
      <axis xyz="0.0 0.0 1.0"/>
      <dynamics damping="0.50000" friction="0.1"/>
      <limit lower="0.0" upper="1.57" effort="1.2" velocity="1.0"/>
    </joint>
    <link name="l_lower_shoulder_upper_link">
      <inertial>
        <origin xyz="0.0 0.0 0.0" rpy="0.0 0.0 0.0"/>
        <mass value="0.01"/>
        <inertia ixx="0.001" ixy="0.0" ixz="0.0" iyy="0.001" iyz="0.0" izz="0.001"/>
      </inertial>
      <visual name="l_lower_shoulder_upper">
        <origin xyz="0.0 0.0 0.0" rpy="0.0 0.0 0.0"/>
        <geometry>
          <box size="0.1 0.1 0.1"/>
        </geometry>
        <material name="grey"/>
      </visual>
      <collision name="l_lower_shoulder_upper_collision">
        <origin xyz="0.0 0.0 0.0" rpy="0.0 0.0 0.0"/>
        <geometry>
          <box size="0.1 0.1 0.1"/>
        </geometry>
      </collision>
    </link>
    <gazebo reference="l_lower_shoulder_upper_link">
      <material>Gazebo/Grey</material>
    </gazebo>

    <joint name="l_lower_shoulder_link_joint" type="fixed">
      <origin xyz="0.01024 0.62216 -0.27345" rpy="1.57080 0.0 0.0"/>
      <parent link="l_lower_shoulder_upper_link"/>
      <child link="l_lower_shoulder_link"/>
    </joint>
    <link name="l_lower_shoulder_link">
      <inertial>
        <origin xyz="0.0 0.0 0.0" rpy="0.0 0.0 0.0"/>
        <mass value="0.01"/>
        <inertia ixx="0.001" ixy="0.0" ixz="0.0" iyy="0.001" iyz="0.0" izz="0.001"/>
      </inertial>
      <visual name="l_lower_shoulder">
        <origin xyz="0.0 0.0 0.0" rpy="0.0 0.0 0.0"/>
        <geometry>
          <mesh filename="package://rmis/meshes/stl/l_shoulder_joint.stl" scale="0.1 0.1 0.1"/>
        </geometry>
        <material name="grey"/>
      </visual>
      <collision name="l_lower_shoulder_collision">
        <origin xyz="0.0 0.0 0.0" rpy="0.0 0.0 0.0"/>
        <geometry>
          <mesh filename="package://rmis/meshes/stl/l_shoulder_joint.stl" scale="0.1 0.1 0.1"/>
        </geometry>
      </collision>
    </link>
    <gazebo reference="l_lower_shoulder_link">
      <material>Gazebo/Grey</material>
    </gazebo>

    <joint name="l_upper_arm_upper_link_joint" type="revolute">
      <origin xyz="0.0 0.0 0.0" rpy="0.0 0.0 0.0"/>
      <parent link="l_lower_shoulder_link"/>
      <child link="l_upper_arm_upper_link"/>
      <axis xyz="0.0 0.0 1.0"/>
      <dynamics damping="0.50000" friction="0.1"/>
      <limit lower="-1.57" upper="1.57" effort="1.2" velocity="1.0"/>
    </joint>
    <link name="l_upper_arm_upper_link">
      <inertial>
        <origin xyz="0.0 0.0 0.0" rpy="0.0 0.0 0.0"/>
        <mass value="0.01"/>
        <inertia ixx="0.001" ixy="0.0" ixz="0.0" iyy="0.001" iyz="0.0" izz="0.001"/>
      </inertial>
      <visual name="l_upper_arm_upper">
        <origin xyz="0.0 0.0 0.0" rpy="0.0 0.0 0.0"/>
        <geometry>
          <mesh filename="package://rmis/meshes/stl/l_upper_arm_link.stl" scale="0.1 0.1 0.1"/>
        </geometry>
        <material name="grey"/>
      </visual>
      <collision name="l_upper_arm_upper_collision">
        <origin xyz="0.0 0.0 0.0" rpy="0.0 0.0 0.0"/>
        <geometry>
          <mesh filename="package://rmis/meshes/stl/l_upper_arm_link.stl" scale="0.1 0.1 0.1"/>
        </geometry>
      </collision>
    </link>
    <gazebo reference="l_upper_arm_upper_link">
      <material>Gazebo/Grey</material>
    </gazebo>

    <joint name="l_upper_arm_lower_link_joint" type="revolute">
      <origin xyz="0.0 0.3 0.0" rpy="0.0 0.0 0.0"/>
      <parent link="l_upper_arm_upper_link"/>
      <child link="l_upper_arm_lower_link"/>
      <axis xyz="0.0 0.0 1.0"/>
      <dynamics damping="0.50000" friction="0.1"/>
      <limit lower="-1.57" upper="1.57" effort="1.2" velocity="1.0"/>
    </joint>
    <link name="l_upper_arm_lower_link">
      <inertial>
        <origin xyz="0.0 0.0 0.0" rpy="0.0 0.0 0.0"/>
        <mass value="0.01"/>
        <inertia ixx="0.001" ixy="0.0" ixz="0.0" iyy="0.001" iyz="0.0" izz="0.001"/>
      </inertial>
      <visual name="l_upper_arm_lower">
        <origin xyz="0.0 0.0 0.0" rpy="0.0 0.0 0.0"/>
        <geometry>
          <mesh filename="package://rmis/meshes/stl/l_upper_arm_joint.stl" scale="0.1 0.1 0.1"/>
        </geometry>
        <material name="grey"/>
      </visual>
      <collision name="l_upper_arm_lower_collision">
        <origin xyz="0.0 0.0 0.0" rpy="0.0 0.0 0.0"/>
        <geometry>
          <mesh filename="package://rmis/meshes/stl/l_upper_arm_joint.stl" scale="0.1 0.1 0.1"/>
        </geometry>
      </collision>
    </link>
    <gazebo reference="l_upper_arm_lower_link">
      <material>Gazebo/Grey</material>
    </gazebo>

    <joint name="l_lower_arm_upper_link_joint" type="revolute">
      <origin xyz="0.0 0.3 0.0" rpy="0.0 0.0 0.0"/>
      <parent link="l_upper_arm_lower_link"/>
      <child link="l_lower_arm_upper_link"/>
      <axis xyz="0.0 0.0 1.0"/>
      <dynamics damping="0.50000" friction="0.1"/>
      <limit lower="-1.57" upper="1.57" effort="1.2" velocity="1.0"/>
    </joint>
    <link name="l_lower_arm_upper_link">
      <inertial>
        <origin xyz="0.0 0.0 0.0" rpy="0.0 0.0 0.0"/>
        <mass value="0.01"/>
        <inertia ixx="0.001" ixy="0.0" ixz="0.0" iyy="0.001" iyz="0.0" izz="0.001"/>
      </inertial>
      <visual name="l_lower_arm_upper">
        <origin xyz="0.0 0.0 0.0" rpy="0.0 0.0 0.0"/>
        <geometry>
          <mesh filename="package://rmis/meshes/stl/l_lower_arm_link.stl" scale="0.1 0.1 0.1"/>
        </geometry>
        <material name="grey"/>
      </visual>
      <collision name="l_lower_arm_upper_collision">
        <origin xyz="0.0 0.0 0.0" rpy="0.0 0.0 0.0"/>
        <geometry>
          <mesh filename="package://rmis/meshes/stl/l_lower_arm_link.stl" scale="0.1 0.1 0.1"/>
        </geometry>
      </collision>
    </link>
    <gazebo reference="l_lower_arm_upper_link">
      <material>Gazebo/Grey</material>
    </gazebo>

    <joint name="l_lower_arm_lower_link_joint" type="revolute">
      <origin xyz="0.0 0.3 0.0" rpy="0.0 0.0 0.0"/>
      <parent link="l_lower_arm_upper_link"/>
      <child link="l_lower_arm_lower_link"/>
      <axis xyz="0.0 0.0 1.0"/>
      <dynamics damping="0.50000" friction="0.1"/>
      <limit lower="-1.57" upper="1.57" effort="1.2" velocity="1.0"/>
    </joint>
    <link name="l_lower_arm_lower_link">
      <inertial>
        <origin xyz="0.0 0.0 0.0" rpy="0.0 0.0 0.0"/>
        <mass value="0.01"/>
        <inertia ixx="0.001" ixy="0.0" ixz="0.0" iyy="0.001" iyz="0.0" izz="0.001"/>
      </inertial>
      <visual name="l_lower_arm_lower">
        <origin xyz="0.0 0.0 0.0" rpy="0.0 0.0 0.0"/>
        <geometry>
          <mesh filename="package://rmis/meshes/stl/l_lower_arm_joint.stl" scale="0.1 0.1 0.1"/>
        </geometry>
        <material name="grey"/>
      </visual>
      <collision name="l_lower_arm_lower_collision">
        <origin xyz="0.0 0.0 0.0" rpy="0.0 0.0 0.0"/>
        <geometry>
          <mesh filename="package://rmis/meshes/stl/l_lower_arm_joint.stl" scale="0.1 0.1 0.1"/>
        </geometry>
      </collision>
    </link>
    <gazebo reference="l_lower_arm_lower_link">
      <material>Gazebo/Grey</material>
    </gazebo>

    <joint name="l_hand_link_joint" type="fixed">
      <origin xyz="0.0 0.2 0.0" rpy="0.0 0.0 0.0"/>
      <parent link="l_lower_arm_lower_link"/>
      <child link="l_hand_link"/>
    </joint>
    <link name="l_hand_link">
      <inertial>
        <origin xyz="0.0 0.0 0.0" rpy="0.0 0.0 0.0"/>
        <mass value="0.01"/>
        <inertia ixx="0.001" ixy="0.0" ixz="0.0" iyy="0.001" iyz="0.0" izz="0.001"/>
      </inertial>
      <visual name="l_hand">
        <origin xyz="0.0 0.0 0.0" rpy="0.0 0.0 0.0"/>
        <geometry>
          <mesh filename="package://rmis/meshes/stl/l_hand_link.stl" scale="0.1 0.1 0.1"/>
        </geometry>
        <material name="grey"/>
      </visual>
      <collision name="l_hand_collision">
        <origin xyz="0.0 0.0 0.0" rpy="0.0 0.0 0.0"/>
        <geometry>
          <mesh filename="package://rmis/meshes/stl/l_hand_link.stl" scale="0.1 0.1 0.1"/>
        </geometry>
      </collision>
    </link>
    <gazebo reference="l_hand_link">
      <material>Gazebo/Grey</material>
    </gazebo>
  
  <!-- Right Arm Section -->
    <joint name="r_upper_shoulder_link_joint" type="fixed">
      <origin xyz="0.00314 -0.00023 0.15035" rpy="-1.64773 1.57080 -1.64773"/> <!-- Mirrored for right side -->
      <parent link="r_upper_body_link"/>
      <child link="r_upper_shoulder_link"/>
    </joint>
    <link name="r_upper_shoulder_link">
      <inertial>
        <origin xyz="0.21242 0.01084 -0.01650" rpy="0.0 0.0 0.0"/>
        <mass value="0.05000"/>
        <inertia ixx="0.07973" ixy="0.00003" ixz="0.0" iyy="0.18690" iyz="0.0" izz="0.23547"/>
      </inertial>
      <visual name="r_upper_shoulder">
        <origin xyz="0.02124 0.00108 -0.00165" rpy="0.0 0.0 0.0"/>
        <geometry>
          <mesh filename="package://rmis/meshes/stl/r_shoulder_link.stl" scale="0.1 0.1 0.1"/>
        </geometry>
        <material name="grey"/>
      </visual>
      <collision name="r_upper_shoulder_collision">
        <origin xyz="0.02124 0.00108 -0.00165" rpy="0.0 0.0 0.0"/>
        <geometry>
          <mesh filename="package://rmis/meshes/stl/r_shoulder_link.stl" scale="0.1 0.1 0.1"/>
        </geometry>
      </collision>
    </link>
    <gazebo reference="r_upper_shoulder_link">
      <material>Gazebo/Grey</material>
    </gazebo>

    <joint name="r_lower_shoulder_upper_link_joint" type="revolute">
      <origin xyz="-0.15786 -0.25015 0.0" rpy="1.57080 0.0 0.0"/> <!-- Mirrored for right side -->
      <parent link="r_upper_shoulder_link"/>
      <child link="r_lower_shoulder_upper_link"/>
      <axis xyz="0.0 0.0 1.0"/>
      <dynamics damping="0.50000" friction="0.1"/>
      <limit lower="-1.57" upper="0.0" effort="1.2" velocity="1.0"/> <!-- Symmetric limits, mirrored for right side -->
    </joint>
    <link name="r_lower_shoulder_upper_link">
      <inertial>
        <origin xyz="0.0 0.0 0.0" rpy="0.0 0.0 0.0"/>
        <mass value="0.01"/>
        <inertia ixx="0.001" ixy="0.0" ixz="0.0" iyy="0.001" iyz="0.0" izz="0.001"/>
      </inertial>
      <visual name="r_lower_shoulder_upper">
        <origin xyz="0.0 0.0 0.0" rpy="0.0 0.0 0.0"/>
        <geometry>
          <box size="0.1 0.1 0.1"/>
        </geometry>
        <material name="grey"/>
      </visual>
      <collision name="r_lower_shoulder_upper_collision">
        <origin xyz="0.0 0.0 0.0" rpy="0.0 0.0 0.0"/>
        <geometry>
          <box size="0.1 0.1 0.1"/>
        </geometry>
      </collision>
    </link>
    <gazebo reference="r_lower_shoulder_upper_link">
      <material>Gazebo/Grey</material>
    </gazebo>

    <joint name="r_lower_shoulder_link_joint" type="fixed">
      <origin xyz="0.01024 -0.62216 -0.27345" rpy="-1.57080 0.0 0.0"/> <!-- Mirrored for right side -->
      <parent link="r_lower_shoulder_upper_link"/>
      <child link="r_lower_shoulder_link"/>
    </joint>
    <link name="r_lower_shoulder_link">
      <inertial>
        <origin xyz="0.0 0.0 0.0" rpy="0.0 0.0 0.0"/>
        <mass value="0.01"/>
        <inertia ixx="0.001" ixy="0.0" ixz="0.0" iyy="0.001" iyz="0.0" izz="0.001"/>
      </inertial>
      <visual name="r_lower_shoulder">
        <origin xyz="0.0 0.0 0.0" rpy="0.0 0.0 0.0"/>
        <geometry>
          <mesh filename="package://rmis/meshes/stl/r_shoulder_joint.stl" scale="0.1 0.1 0.1"/>
        </geometry>
        <material name="grey"/>
      </visual>
      <collision name="r_lower_shoulder_collision">
        <origin xyz="0.0 0.0 0.0" rpy="0.0 0.0 0.0"/>
        <geometry>
          <mesh filename="package://rmis/meshes/stl/r_shoulder_joint.stl" scale="0.1 0.1 0.1"/>
        </geometry>
      </collision>
    </link>
    <gazebo reference="r_lower_shoulder_link">
      <material>Gazebo/Grey</material>
    </gazebo>

    <joint name="r_upper_arm_upper_link_joint" type="revolute">
      <origin xyz="0.0 0.0 0.0" rpy="0.0 0.0 0.0"/>
      <parent link="r_lower_shoulder_link"/>
      <child link="r_upper_arm_upper_link"/>
      <axis xyz="0.0 0.0 1.0"/>
      <dynamics damping="0.50000" friction="0.1"/>
      <limit lower="-1.57" upper="1.57" effort="1.2" velocity="1.0"/> <!-- Improvement #3 -->
    </joint>
    <link name="r_upper_arm_upper_link">
      <inertial>
        <origin xyz="0.0 0.0 0.0" rpy="0.0 0.0 0.0"/>
        <mass value="0.01"/>
        <inertia ixx="0.001" ixy="0.0" ixz="0.0" iyy="0.001" iyz="0.0" izz="0.001"/>
      </inertial>
      <visual name="r_upper_arm_upper">
        <origin xyz="0.0 0.0 0.0" rpy="0.0 0.0 0.0"/>
        <geometry>
          <mesh filename="package://rmis/meshes/stl/r_upper_arm_link.stl" scale="0.1 0.1 0.1"/>
        </geometry>
        <material name="grey"/>
      </visual>
      <collision name="r_upper_arm_upper_collision">
        <origin xyz="0.0 0.0 0.0" rpy="0.0 0.0 0.0"/>
        <geometry>
          <mesh filename="package://rmis/meshes/stl/r_upper_arm_link.stl" scale="0.1 0.1 0.1"/>
        </geometry>
      </collision>
    </link>
    <gazebo reference="r_upper_arm_upper_link">
      <material>Gazebo/Grey</material>
    </gazebo>

    <joint name="r_upper_arm_lower_link_joint" type="revolute">
      <origin xyz="0.0 -0.3 0.0" rpy="0.0 0.0 0.0"/> <!-- Mirrored for right side -->
      <parent link="r_upper_arm_upper_link"/>
      <child link="r_upper_arm_lower_link"/>
      <axis xyz="0.0 0.0 1.0"/>
      <dynamics damping="0.50000" friction="0.1"/>
      <limit lower="-1.57" upper="1.57" effort="1.2" velocity="1.0"/> <!-- Improvement #3 -->
    </joint>
    <link name="r_upper_arm_lower_link">
      <inertial>
        <origin xyz="0.0 0.0 0.0" rpy="0.0 0.0 0.0"/>
        <mass value="0.01"/>
        <inertia ixx="0.001" ixy="0.0" ixz="0.0" iyy="0.001" iyz="0.0" izz="0.001"/>
      </inertial>
      <visual name="r_upper_arm_lower">
        <origin xyz="0.0 0.0 0.0" rpy="0.0 0.0 0.0"/>
        <geometry>
          <mesh filename="package://rmis/meshes/stl/r_upper_arm_joint.stl" scale="0.1 0.1 0.1"/>
        </geometry>
        <material name="grey"/>
      </visual>
      <collision name="r_upper_arm_lower_collision">
        <origin xyz="0.0 0.0 0.0" rpy="0.0 0.0 0.0"/>
        <geometry>
          <mesh filename="package://rmis/meshes/stl/r_upper_arm_joint.stl" scale="0.1 0.1 0.1"/>
        </geometry>
      </collision>
    </link>
    <gazebo reference="r_upper_arm_lower_link">
      <material>Gazebo/Grey</material>
    </gazebo>

    <joint name="r_lower_arm_upper_link_joint" type="revolute">
      <origin xyz="0.0 -0.3 0.0" rpy="0.0 0.0 0.0"/> <!-- Mirrored for right side -->
      <parent link="r_upper_arm_lower_link"/>
      <child link="r_lower_arm_upper_link"/>
      <axis xyz="0.0 0.0 1.0"/>
      <dynamics damping="0.50000" friction="0.1"/>
      <limit lower="-1.57" upper="1.57" effort="1.2" velocity="1.0"/> <!-- Improvement #3 -->
    </joint>
    <link name="r_lower_arm_upper_link">
      <inertial>
        <origin xyz="0.0 0.0 0.0" rpy="0.0 0.0 0.0"/>
        <mass value="0.01"/>
        <inertia ixx="0.001" ixy="0.0" ixz="0.0" iyy="0.001" iyz="0.0" izz="0.001"/>
      </inertial>
      <visual name="r_lower_arm_upper">
        <origin xyz="0.0 0.0 0.0" rpy="0.0 0.0 0.0"/>
        <geometry>
          <mesh filename="package://rmis/meshes/stl/r_lower_arm_link.stl" scale="0.1 0.1 0.1"/>
        </geometry>
        <material name="grey"/>
      </visual>
      <collision name="r_lower_arm_upper_collision">
        <origin xyz="0.0 0.0 0.0" rpy="0.0 0.0 0.0"/>
        <geometry>
          <mesh filename="package://rmis/meshes/stl/r_lower_arm_link.stl" scale="0.1 0.1 0.1"/>
        </geometry>
      </collision>
    </link>
    <gazebo reference="r_lower_arm_upper_link">
      <material>Gazebo/Grey</material>
    </gazebo>

    <joint name="r_lower_arm_lower_link_joint" type="revolute">
      <origin xyz="0.0 -0.3 0.0" rpy="0.0 0.0 0.0"/> <!-- Mirrored for right side -->
      <parent link="r_lower_arm_upper_link"/>
      <child link="r_lower_arm_lower_link"/>
      <axis xyz="0.0 0.0 1.0"/>
      <dynamics damping="0.50000" friction="0.1"/>
      <limit lower="-1.57" upper="1.57" effort="1.2" velocity="1.0"/> <!-- Improvement #3 -->
    </joint>
    <link name="r_lower_arm_lower_link">
      <inertial>
        <origin xyz="0.0 0.0 0.0" rpy="0.0 0.0 0.0"/>
        <mass value="0.01"/>
        <inertia ixx="0.001" ixy="0.0" ixz="0.0" iyy="0.001" iyz="0.0" izz="0.001"/>
      </inertial>
      <visual name="r_lower_arm_lower">
        <origin xyz="0.0 0.0 0.0" rpy="0.0 0.0 0.0"/>
        <geometry>
          <mesh filename="package://rmis/meshes/stl/r_lower_arm_joint.stl" scale="0.1 0.1 0.1"/>
        </geometry>
        <material name="grey"/>
      </visual>
      <collision name="r_lower_arm_lower_collision">
        <origin xyz="0.0 0.0 0.0" rpy="0.0 0.0 0.0"/>
        <geometry>
          <mesh filename="package://rmis/meshes/stl/r_lower_arm_joint.stl" scale="0.1 0.1 0.1"/>
        </geometry>
      </collision>
    </link>
    <gazebo reference="r_lower_arm_lower_link">
      <material>Gazebo/Grey</material>
    </gazebo>

    <joint name="r_hand_link_joint" type="fixed">
      <origin xyz="0.0 -0.2 0.0" rpy="0.0 0.0 0.0"/> <!-- Mirrored for right side -->
      <parent link="r_lower_arm_lower_link"/>
      <child link="r_hand_link"/>
    </joint>
    <link name="r_hand_link">
      <inertial>
        <origin xyz="0.0 0.0 0.0" rpy="0.0 0.0 0.0"/>
        <mass value="0.01"/>
        <inertia ixx="0.001" ixy="0.0" ixz="0.0" iyy="0.001" iyz="0.0" izz="0.001"/>
      </inertial>
      <visual name="r_hand">
        <origin xyz="0.0 0.0 0.0" rpy="0.0 0.0 0.0"/>
        <geometry>
          <mesh filename="package://rmis/meshes/stl/r_hand_link.stl" scale="0.1 0.1 0.1"/>
        </geometry>
        <material name="grey"/>
      </visual>
      <collision name="r_hand_collision">
        <origin xyz="0.0 0.0 0.0" rpy="0.0 0.0 0.0"/>
        <geometry>
          <mesh filename="package://rmis/meshes/stl/r_hand_link.stl" scale="0.1 0.1 0.1"/>
        </geometry>
      </collision>
    </link>
    <gazebo reference="r_hand_link">
      <material>Gazebo/Grey</material>
    </gazebo>

<!-- IMU Sensor Plugin (Improvement #7) -->
    <gazebo reference="imu_link">
      <sensor name="imu_sensor" type="imu">
        <pose>0.0 0.0 0.0 0.0 0.0 0.0</pose>
        <imu>
          <noise>
            <type>gaussian</type>
            <rate>
              <mean>0.0</mean>
              <stddev>0.0002</stddev>
            </rate>
            <accel>
              <mean>0.0</mean>
              <stddev>0.0005</stddev>
            </accel>
          </noise>
        </imu>
        <plugin name="imu_plugin" filename="libgazebo_ros_imu_sensor.so">
          <ros>
            <namespace>/rmis</namespace>
            <remapping>~/out:=imu/data</remapping>
          </ros>
          <frame_name>imu_link</frame_name>
          <update_rate>100</update_rate>
        </plugin>
      </sensor>
    </gazebo>

    <!-- Gazebo Control Plugin (Improvement #9) -->
    <gazebo>
      <plugin name="gazebo_ros_control" filename="libgazebo_ros_control.so">
        <ros>
          <namespace>/rmis</namespace>
        </ros>
        <robotNamespace>/rmis</robotNamespace>
        <controlPeriod>0.001</controlPeriod>
        <robotSimType>gazebo_ros_control/DefaultRobotHWSim</robotSimType>
      </plugin>
    </gazebo>

  </robot>
